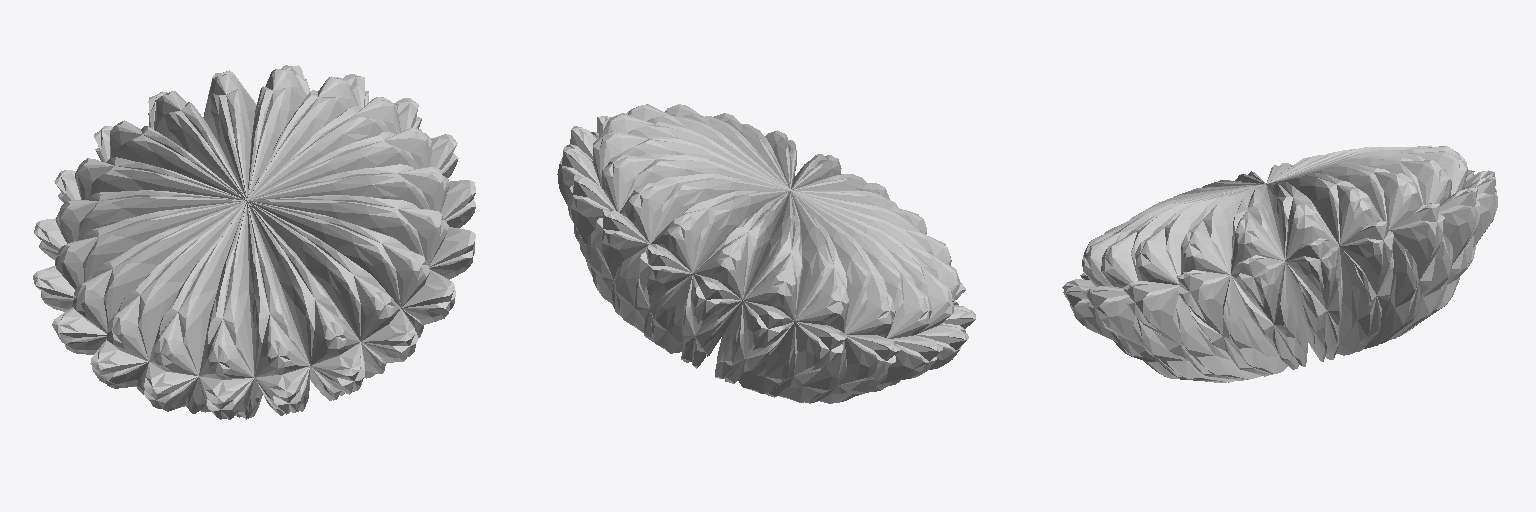
3 renders of one model, left to right at view 1: azimuth 30°, elevation 25°; view 2: azimuth 150°, elevation 25°; view 3: azimuth 270°, elevation 25°, orthographic.
Visible parts, largest first — view 1: temp1:_Instancer_Objects temp1:pCone1 shape03 _Shapes; view 2: temp1:_Instancer_Objects temp1:pCone1 shape03 _Shapes; view 3: temp1:_Instancer_Objects temp1:pCone1 shape03 _Shapes.
Part boxes in pixels (left/top/right/bottom): temp1:_Instancer_Objects temp1:pCone1 shape03 _Shapes: left=33, top=65, right=475, bottom=419; temp1:_Instancer_Objects temp1:pCone1 shape03 _Shapes: left=557, top=104, right=975, bottom=403; temp1:_Instancer_Objects temp1:pCone1 shape03 _Shapes: left=1062, top=145, right=1497, bottom=382.
Size of the model in its own units: 23.56 by 14.85 by 23.8.